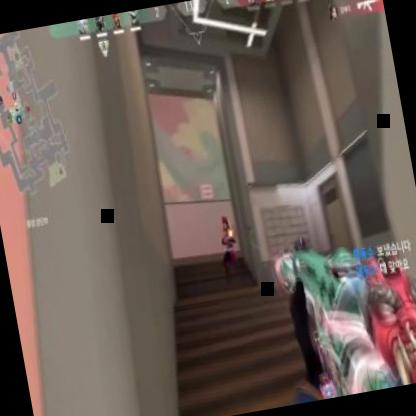enemy: (214, 212, 246, 284)
enemy_head: (219, 214, 229, 230)
